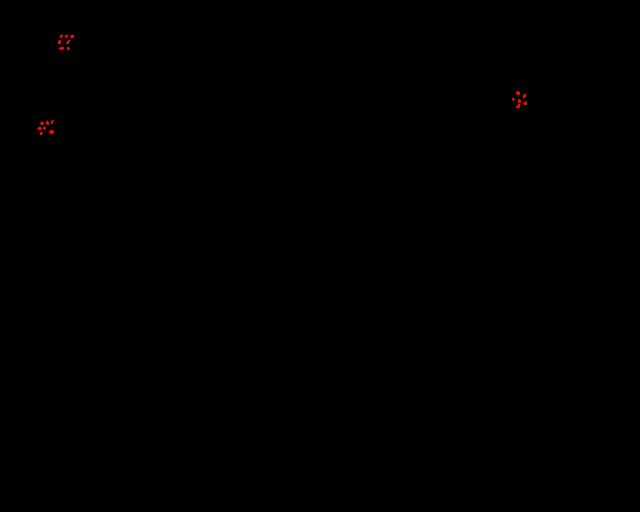Target: (49, 130, 54, 134), (66, 40, 70, 44), (516, 91, 520, 95), (523, 101, 527, 105), (516, 104, 520, 108), (59, 47, 64, 50), (37, 127, 42, 130), (70, 35, 74, 38), (58, 40, 61, 44), (523, 94, 526, 98), (518, 99, 521, 103), (51, 120, 54, 124), (46, 121, 49, 125), (40, 122, 44, 125), (60, 35, 63, 38), (65, 35, 68, 38), (67, 47, 70, 50), (512, 98, 515, 101), (43, 127, 46, 130), (40, 132, 43, 135)
